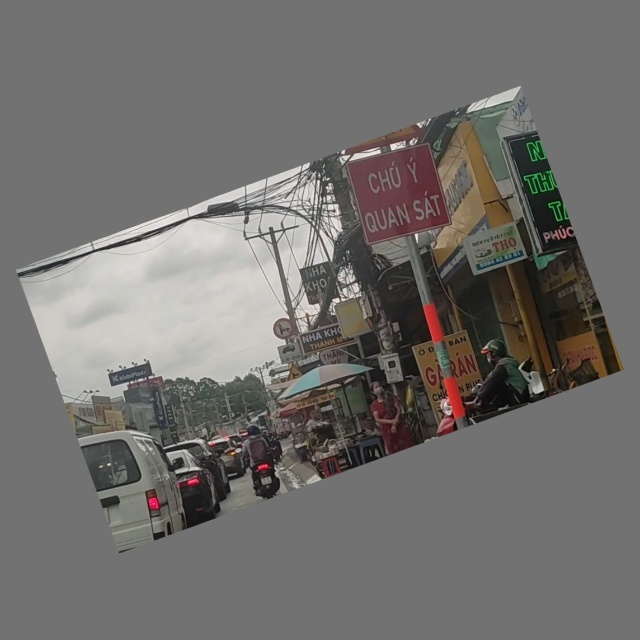P.139: (267, 314, 299, 346)
S.505a*Xe tai: (274, 339, 306, 366)
W.205b: (279, 359, 309, 384)
